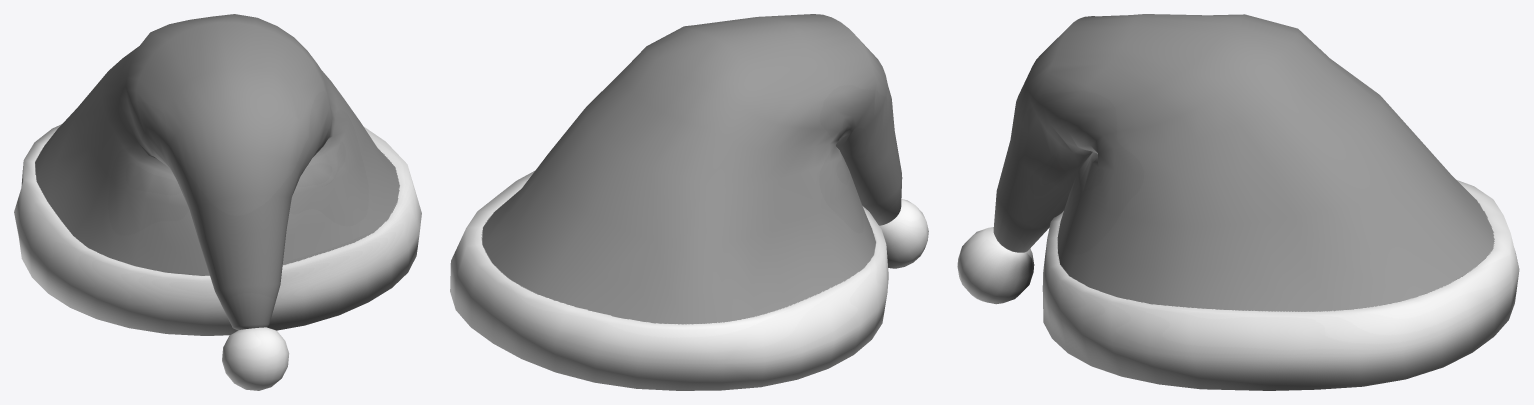
Rendered from santa_hat.fbx.
The picture shows the model from 3 angles, left to right: view 1: azimuth 30°, elevation 25°; view 2: azimuth 150°, elevation 25°; view 3: azimuth 270°, elevation 25°; orthographic projection. The views are drawn at different scales.
Visible parts, largest first — view 1: santa_hat_lod0; view 2: santa_hat_lod0; view 3: santa_hat_lod0.
Boxes of the visible parts, left/top/right/bottom form: santa_hat_lod0: left=14, top=14, right=421, bottom=390; santa_hat_lod0: left=450, top=14, right=928, bottom=390; santa_hat_lod0: left=957, top=14, right=1519, bottom=390.
Size of what is drawn, in the model's own units: 163 by 123 by 200.
